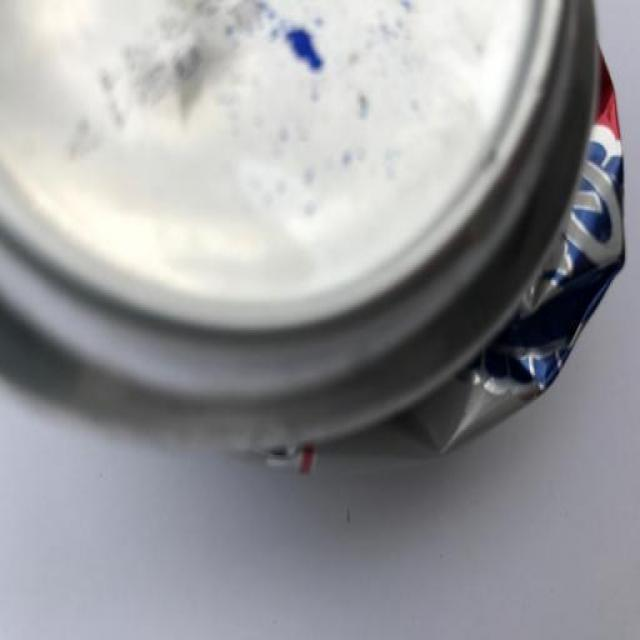metel: (16, 1, 621, 483)
